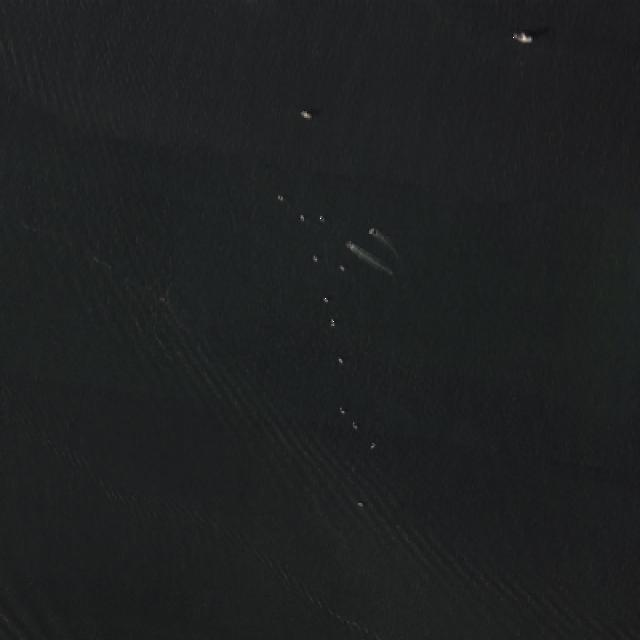boat: (512, 29, 531, 40), (300, 109, 310, 116), (368, 226, 376, 234), (328, 319, 334, 324), (346, 241, 352, 246), (339, 406, 344, 411), (298, 215, 304, 219), (352, 422, 357, 426), (339, 264, 344, 268), (312, 254, 316, 259), (322, 297, 328, 300), (370, 442, 374, 446), (338, 356, 342, 360), (319, 215, 323, 219), (277, 194, 281, 198), (356, 501, 362, 503)
